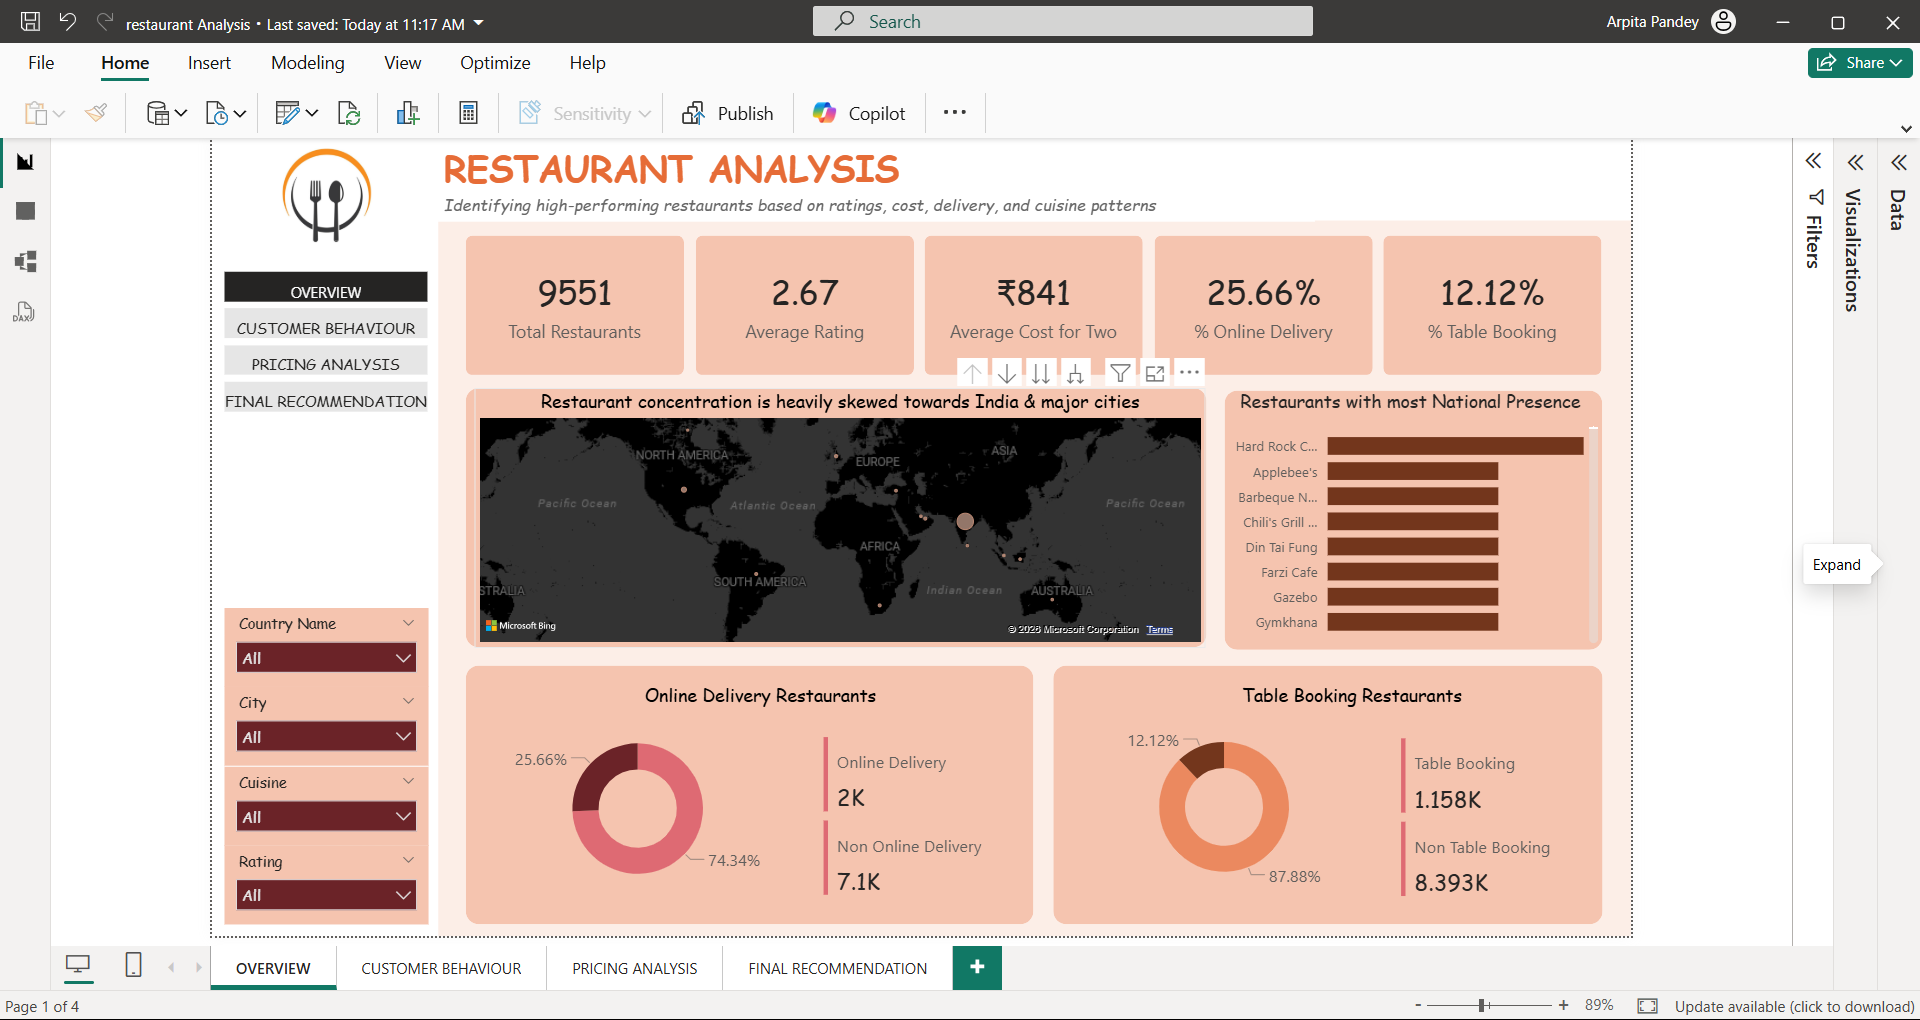

This screenshot's page, from the dashboard's own definition file:
{"tool":"powerbi","page":{"name":"OVERVIEW","canvas":[1280,720],"ordinal":0},"visuals":[{"type":"shape","box":[758.8,476.2,495.4,233.3],"z":0},{"type":"shape","box":[0,0,204.2,720.2],"z":1000},{"type":"shape","box":[0,0,1280.3,74.6],"z":2000},{"type":"image","box":[37,0,131,104],"z":3000},{"type":"textbox","box":[204,0,554,66],"z":4000},{"type":"textbox","box":[204,45,790,30],"z":5000},{"type":"shape","box":[228.5,225.8,667.9,233.9],"z":6000},{"type":"group","id":"g1","title":"Group 1","box":[228.7,87.9,196.9,126],"z":7000},{"type":"shape","box":[228.7,87.9,196.9,126],"z":7000,"group":"g1"},{"type":"shape","box":[435.6,87.9,196.9,126],"z":7000,"group":"g2"},{"type":"shape","box":[642.6,87.9,196.9,126],"z":7000,"group":"g3"},{"type":"shape","box":[849.6,87.9,196.9,126],"z":7000,"group":"g4"},{"type":"shape","box":[1056.5,87.9,196.9,126],"z":7000,"group":"g5"},{"type":"group","id":"g2","title":"Group 1","box":[435.6,87.9,196.9,126],"z":8000},{"type":"group","id":"g3","title":"Group 1","box":[642.6,87.9,196.9,126],"z":9000},{"type":"card","fields":{"Values":["restaurant_db.Total Restaurants"]},"box":[228.7,98.4,196.9,105.2],"z":9001,"group":"g1"},{"type":"card","fields":{"Values":["restaurant_db.Average Rating"]},"box":[435.6,98.4,196.9,105.2],"z":9001,"group":"g2"},{"type":"card","fields":{"Values":["restaurant_db.Average Cost for Two People"]},"box":[642.6,98.4,196.9,105.2],"z":9001,"group":"g3"},{"type":"card","fields":{"Values":["restaurant_db.% Online Delivery"]},"box":[849.6,98.4,196.9,105.2],"z":9001,"group":"g4"},{"type":"card","fields":{"Values":["restaurant_db.% Table Booking"]},"box":[1056.5,98.4,196.9,105.2],"z":9001,"group":"g5"},{"type":"group","id":"g4","title":"Group 1","box":[849.6,87.9,196.9,126],"z":10000},{"type":"group","id":"g5","title":"Group 1","box":[1056.5,87.9,196.9,126],"z":11000},{"type":"shape","box":[229.2,476.2,511.8,233.3],"z":12000},{"type":"donutChart","fields":{"Category":["restaurant_db.Has Online delivery"],"Y":["restaurant_db.Total Restaurants"]},"box":[249.7,521.4,267.6,166],"z":13000},{"type":"cardVisual","fields":{"Data":["restaurant_db.Online Delivery Restaurant","restaurant_db.Non-Online Delivery Restaurant"]},"box":[546.1,535.2,186.6,152.3],"z":14000},{"type":"textbox","box":[373.2,485.8,242.9,49.4],"z":15000},{"type":"donutChart","fields":{"Y":["restaurant_db.Total Restaurants"],"Category":["restaurant_db.Has Table booking"]},"box":[778.9,520.9,267.8,165.1],"z":16000},{"type":"textbox","box":[906.1,485.5,243.3,50.1],"z":17000},{"type":"map","title":"Restaurant concentration is heavily skewed towards India & major cities","fields":{"Category":["restaurant_db.Country Name","restaurant_db.City"],"Size":["restaurant_db.Total Restaurants"]},"box":[236.6,225.8,659.7,233.9],"z":18000},{"type":"pageNavigator","box":[11,120.8,183.9,127.6],"z":19000},{"type":"group","id":"g6","title":"Group 2","box":[11,424,183.9,285.4],"z":20000},{"type":"slicer","fields":{"Values":["restaurant_db.Country Name"]},"box":[11,424,183.9,71.4],"z":20000,"group":"g6"},{"type":"shape","box":[912.6,227.1,340.7,233.9],"z":21000},{"type":"slicer","fields":{"Values":["restaurant_db.City"]},"box":[11,495.4,183.9,71.4],"z":21000,"group":"g6"},{"type":"cardVisual","fields":{"Data":["restaurant_db.Table Booking Restaurant","restaurant_db.Non Table Booking Restaurant"]},"box":[1067.4,536,187.2,152.3],"z":22000},{"type":"slicer","fields":{"Values":["Cuisine_tbl.Cuisine"]},"box":[11,566.7,183.9,71.4],"z":22000,"group":"g6"},{"type":"clusteredBarChart","title":"Restaurants with most National Presence","fields":{"Category":["restaurant_db.Restaurant Name"],"Y":["restaurant_db.Total Country"]},"box":[905.8,225.8,348.8,235.2],"z":23000},{"type":"slicer","fields":{"Values":["restaurant_db.Rating text"]},"box":[11,638.1,183.9,71.4],"z":23000,"group":"g6"}]}

Visuals, with their boxes on the page's 1280x720 design canvas (x1, y1, x2, y2). These are canvas units, not pixel positions in the 1920x1020 screenshot, which may show the page scaled, cropped or inside an application window:
shape: (left=759, top=476, right=1254, bottom=710)
shape: (left=0, top=0, right=204, bottom=720)
shape: (left=0, top=0, right=1280, bottom=75)
image: (left=37, top=0, right=168, bottom=104)
textbox: (left=204, top=0, right=758, bottom=66)
textbox: (left=204, top=45, right=994, bottom=75)
shape: (left=228, top=226, right=896, bottom=460)
"Group 1" group: (left=229, top=88, right=426, bottom=214)
shape: (left=229, top=88, right=426, bottom=214)
shape: (left=436, top=88, right=632, bottom=214)
shape: (left=643, top=88, right=840, bottom=214)
shape: (left=850, top=88, right=1046, bottom=214)
shape: (left=1056, top=88, right=1253, bottom=214)
"Group 1" group: (left=436, top=88, right=632, bottom=214)
"Group 1" group: (left=643, top=88, right=840, bottom=214)
card - restaurant_db.Total Restaurants: (left=229, top=98, right=426, bottom=204)
card - restaurant_db.Average Rating: (left=436, top=98, right=632, bottom=204)
card - restaurant_db.Average Cost for Two People: (left=643, top=98, right=840, bottom=204)
card - restaurant_db.% Online Delivery: (left=850, top=98, right=1046, bottom=204)
card - restaurant_db.% Table Booking: (left=1056, top=98, right=1253, bottom=204)
"Group 1" group: (left=850, top=88, right=1046, bottom=214)
"Group 1" group: (left=1056, top=88, right=1253, bottom=214)
shape: (left=229, top=476, right=741, bottom=710)
donutChart - restaurant_db.Has Online delivery x restaurant_db.Total Restaurants: (left=250, top=521, right=517, bottom=687)
cardVisual - restaurant_db.Online Delivery Restaurant x restaurant_db.Non-Online Delivery Restaurant: (left=546, top=535, right=733, bottom=688)
textbox: (left=373, top=486, right=616, bottom=535)
donutChart - restaurant_db.Total Restaurants x restaurant_db.Has Table booking: (left=779, top=521, right=1047, bottom=686)
textbox: (left=906, top=486, right=1149, bottom=536)
"Restaurant concentration is heavily skewed towards India & major cities" map: (left=237, top=226, right=896, bottom=460)
pageNavigator: (left=11, top=121, right=195, bottom=248)
"Group 2" group: (left=11, top=424, right=195, bottom=709)
slicer - restaurant_db.Country Name: (left=11, top=424, right=195, bottom=495)
shape: (left=913, top=227, right=1253, bottom=461)
slicer - restaurant_db.City: (left=11, top=495, right=195, bottom=567)
cardVisual - restaurant_db.Table Booking Restaurant x restaurant_db.Non Table Booking Restaurant: (left=1067, top=536, right=1255, bottom=688)
slicer - Cuisine_tbl.Cuisine: (left=11, top=567, right=195, bottom=638)
"Restaurants with most National Presence" clusteredBarChart: (left=906, top=226, right=1255, bottom=461)
slicer - restaurant_db.Rating text: (left=11, top=638, right=195, bottom=710)
